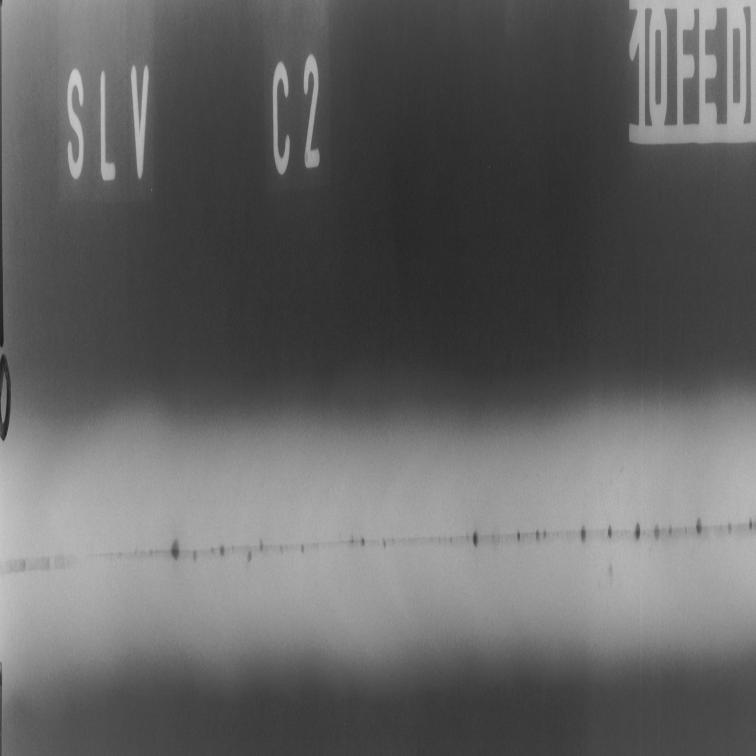FP: (5, 477, 754, 606)
